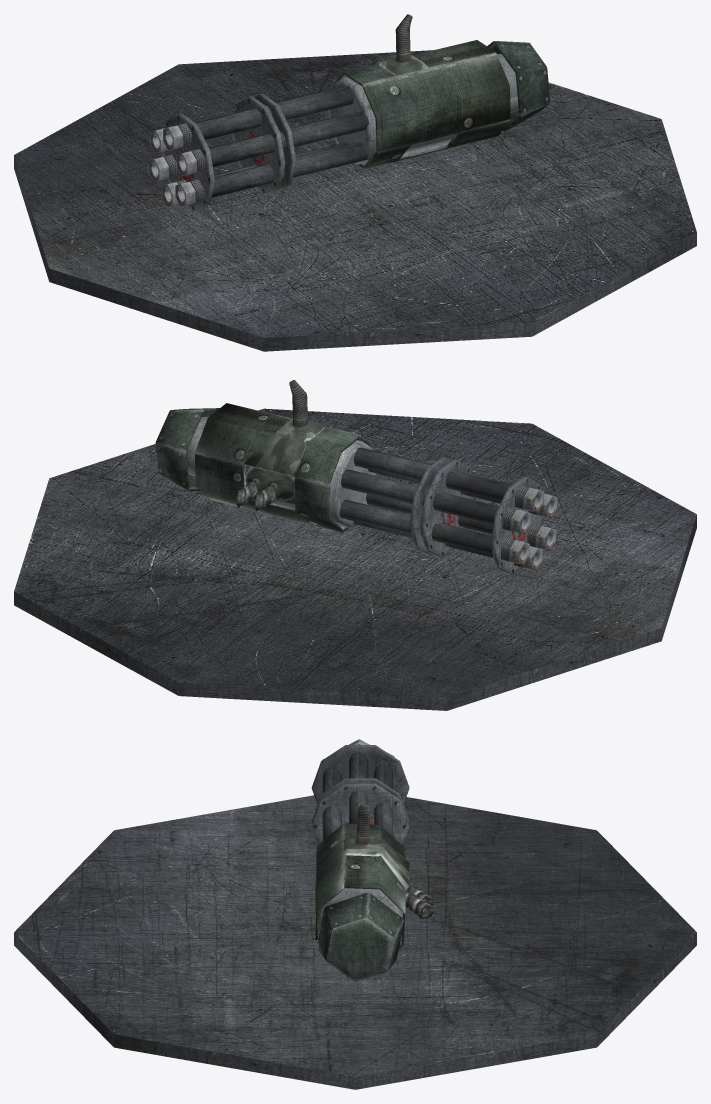
The model's file is miniGun-01.FBX.
The picture shows the model from 3 angles, top to bottom: view 1: azimuth 30°, elevation 25°; view 2: azimuth 150°, elevation 25°; view 3: azimuth 270°, elevation 25°; orthographic projection. The views are drawn at different scales.
Visible parts, largest first — view 1: Plane, Gun-Cover, pipe-03, Back-cover, pipe-04, pipe-02, Gun-inside-cover, Metal-cylinder-02, Metal-cylinder-01, Metal-cylinder-03, Fire-ex-3, Fire-ex-6 (+2 smaller); view 2: Plane, Gun-Cover, Gun-inside-cover, pipe-01, Back-cover, pipe-02, pipe-06, Metal-cylinder-02, Metal-cylinder-01, Metal-cylinder-03, pipe-04, Fire-ex-6 (+3 smaller); view 3: Plane, Gun-Cover, Back-cover, Metal-cylinder-03, Metal-cylinder-01, Gun-inside-cover, pipe-02, pipe-03, pipe-01, Metal-cylinder-02.
Part boxes in pixels (left/top/right/bottom): Plane: left=14, top=50, right=696, bottom=351; Gun-Cover: left=330, top=14, right=510, bottom=169; pipe-03: left=209, top=111, right=369, bottom=166; Back-cover: left=487, top=41, right=550, bottom=132; pipe-04: left=211, top=142, right=371, bottom=197; pipe-02: left=195, top=86, right=353, bottom=139; Gun-inside-cover: left=328, top=54, right=518, bottom=164; Metal-cylinder-02: left=232, top=96, right=285, bottom=195; Metal-cylinder-01: left=162, top=113, right=214, bottom=212; Metal-cylinder-03: left=254, top=93, right=296, bottom=192; Fire-ex-3: left=176, top=149, right=205, bottom=176; Fire-ex-6: left=175, top=179, right=204, bottom=206; Plane: left=14, top=408, right=696, bottom=710; Gun-Cover: left=195, top=380, right=374, bottom=532; Gun-inside-cover: left=186, top=417, right=377, bottom=527; pipe-01: left=341, top=469, right=498, bottom=524; Back-cover: left=155, top=408, right=219, bottom=491; pipe-02: left=353, top=447, right=512, bottom=501; pipe-06: left=339, top=500, right=492, bottom=554; Metal-cylinder-02: left=420, top=459, right=473, bottom=558; Metal-cylinder-01: left=490, top=476, right=543, bottom=575; Metal-cylinder-03: left=409, top=456, right=451, bottom=555; pipe-04: left=366, top=493, right=493, bottom=534; Fire-ex-6: left=527, top=523, right=556, bottom=550; Plane: left=14, top=795, right=696, bottom=1089; Gun-Cover: left=315, top=804, right=409, bottom=949; Back-cover: left=316, top=892, right=404, bottom=982; Metal-cylinder-03: left=311, top=783, right=409, bottom=845; Metal-cylinder-01: left=311, top=745, right=409, bottom=803; Gun-inside-cover: left=318, top=884, right=433, bottom=930; pipe-02: left=349, top=752, right=368, bottom=823; pipe-03: left=322, top=767, right=341, bottom=840; pipe-01: left=374, top=764, right=392, bottom=835; Metal-cylinder-02: left=311, top=778, right=409, bottom=823.
Bounding box in the file's own units: 207 × 56.42 × 207.
6 materials, 6 textured.
